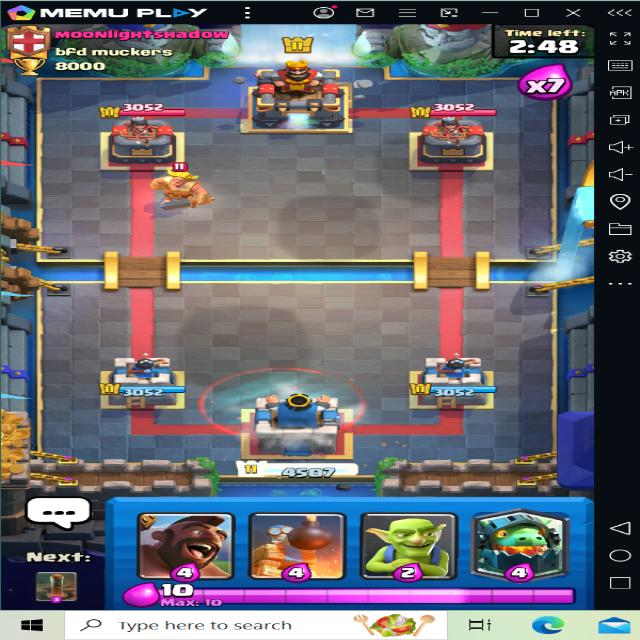Clone: (197, 362, 370, 432)
Goldenknight: (155, 162, 231, 210)
